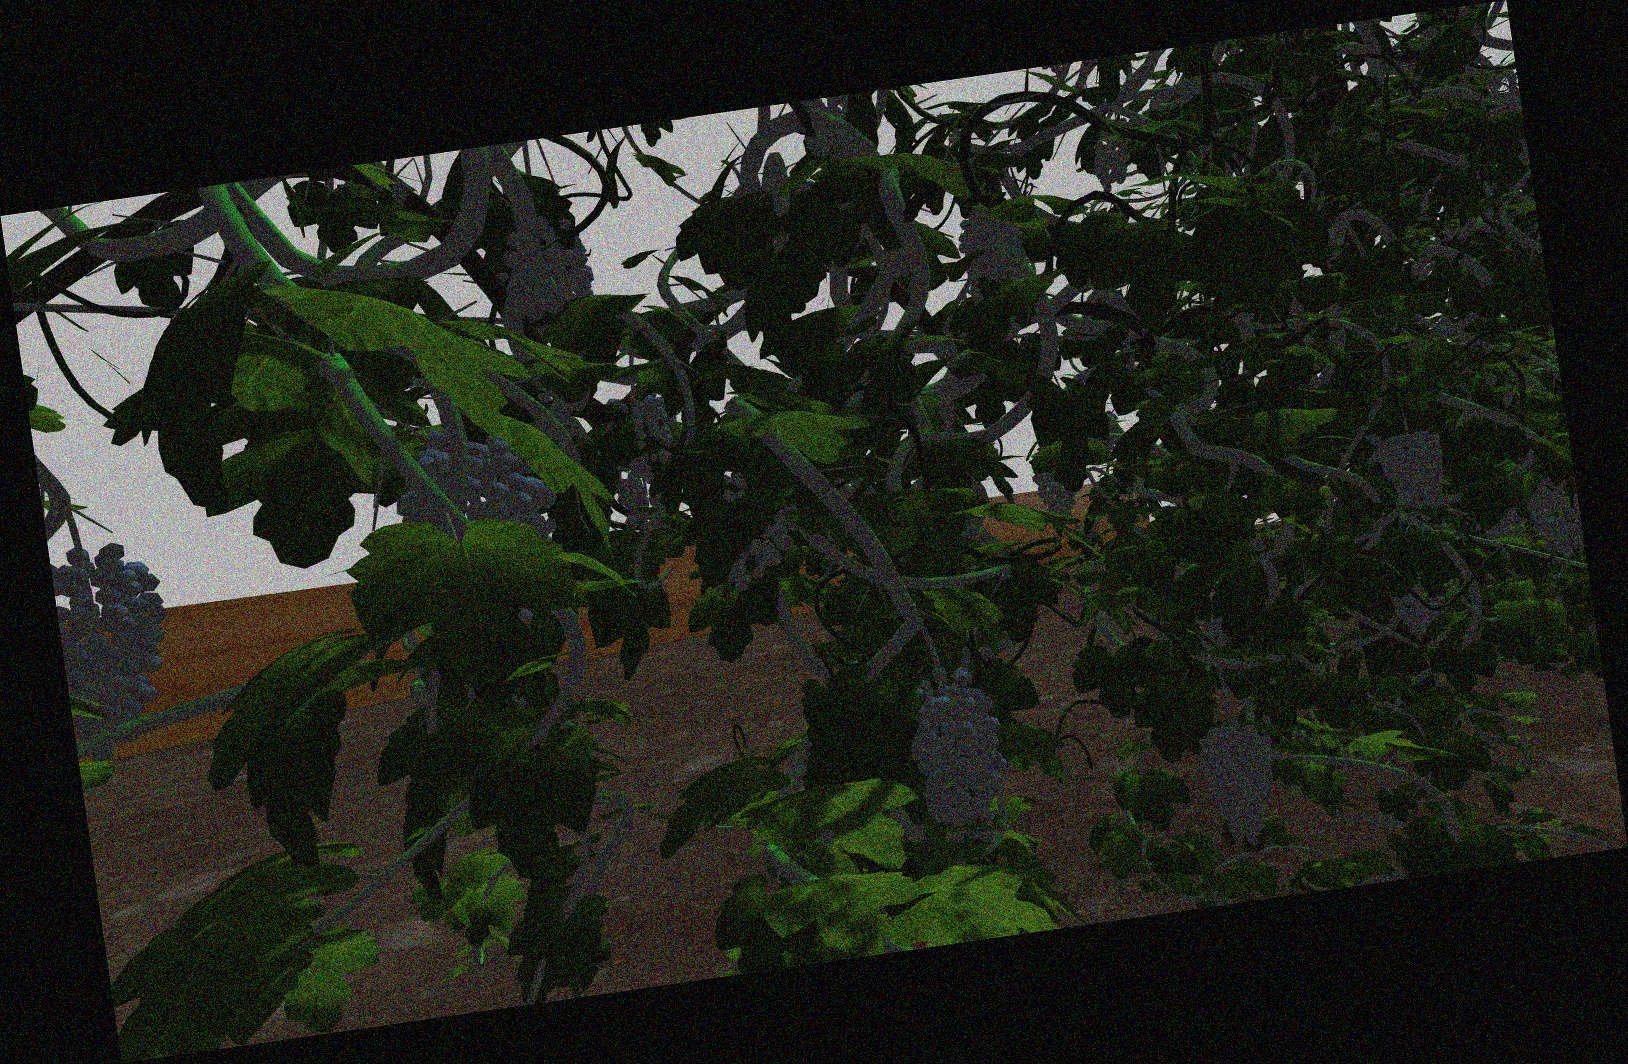grape: (66, 543, 167, 723), (393, 433, 546, 547), (911, 665, 1005, 844), (1196, 688, 1278, 845), (500, 214, 593, 318), (959, 205, 1026, 298), (1380, 430, 1450, 509), (1089, 137, 1130, 190)
